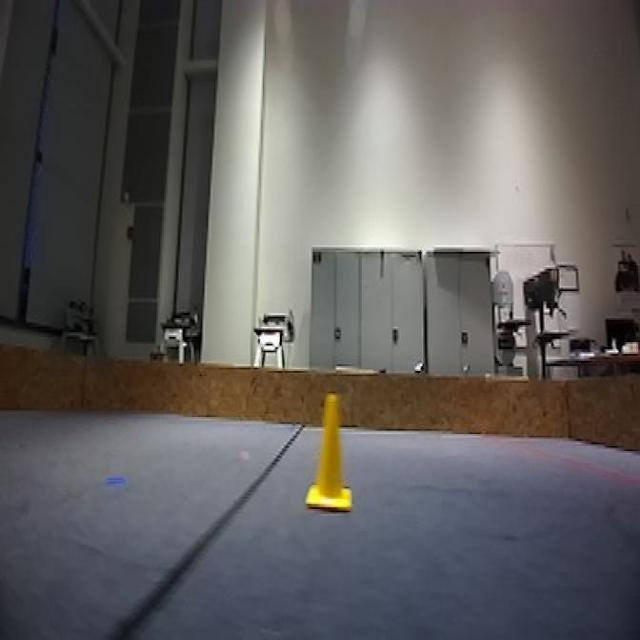frc_cone: (308, 390, 357, 510)
